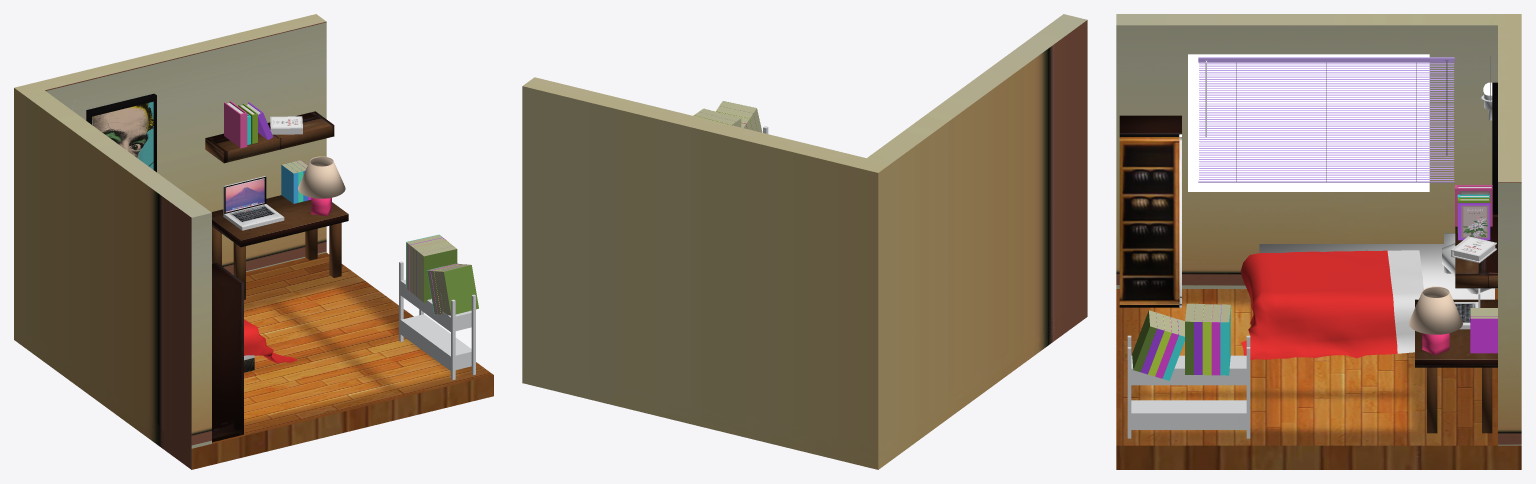
Rendered from librarians_room-transformed.glb.
3 views of the same model, side by side, from view 1: azimuth 30°, elevation 25°; view 2: azimuth 150°, elevation 25°; view 3: azimuth 270°, elevation 25° (orthographic). The views are drawn at different scales.
Parts seen in each view (by area): view 1: Room_Wall_0, Room_Floor_0, Cube_Bed_0, Table_Table_0, Cube.007_Images_0, Cube.004_Desktop_0, Cube.004_Keyboard_0; view 2: Room_Wall_0, Cube_Bed_0; view 3: Cube_Bed_0, Room_Wall_0, Room_Floor_0, Room_Windows_0, Cube.005_Wardrop_0, Table_Table_0, Book_CoverA_0.
Boxes of the visible parts, x1=… form: Room_Wall_0: x1=14, y1=14, x2=326, y2=469; Room_Floor_0: x1=191, y1=252, x2=493, y2=469; Cube_Bed_0: x1=72, y1=93, x2=478, y2=379; Table_Table_0: x1=205, y1=111, x2=348, y2=442; Cube.007_Images_0: x1=92, y1=101, x2=153, y2=169; Cube.004_Desktop_0: x1=225, y1=178, x2=264, y2=212; Cube.004_Keyboard_0: x1=229, y1=205, x2=279, y2=225; Room_Wall_0: x1=522, y1=14, x2=1087, y2=469; Cube_Bed_0: x1=693, y1=101, x2=768, y2=133; Cube_Bed_0: x1=1127, y1=56, x2=1497, y2=438; Room_Wall_0: x1=1116, y1=14, x2=1521, y2=445; Room_Floor_0: x1=1116, y1=289, x2=1521, y2=469; Room_Windows_0: x1=1188, y1=54, x2=1429, y2=191; Cube.005_Wardrop_0: x1=1119, y1=134, x2=1181, y2=307; Table_Table_0: x1=1119, y1=115, x2=1497, y2=433; Book_CoverA_0: x1=1459, y1=191, x2=1490, y2=238.
Bounding box in the file's own units: 454 × 362 × 462.
Materials: 14 (14 with a texture image).
